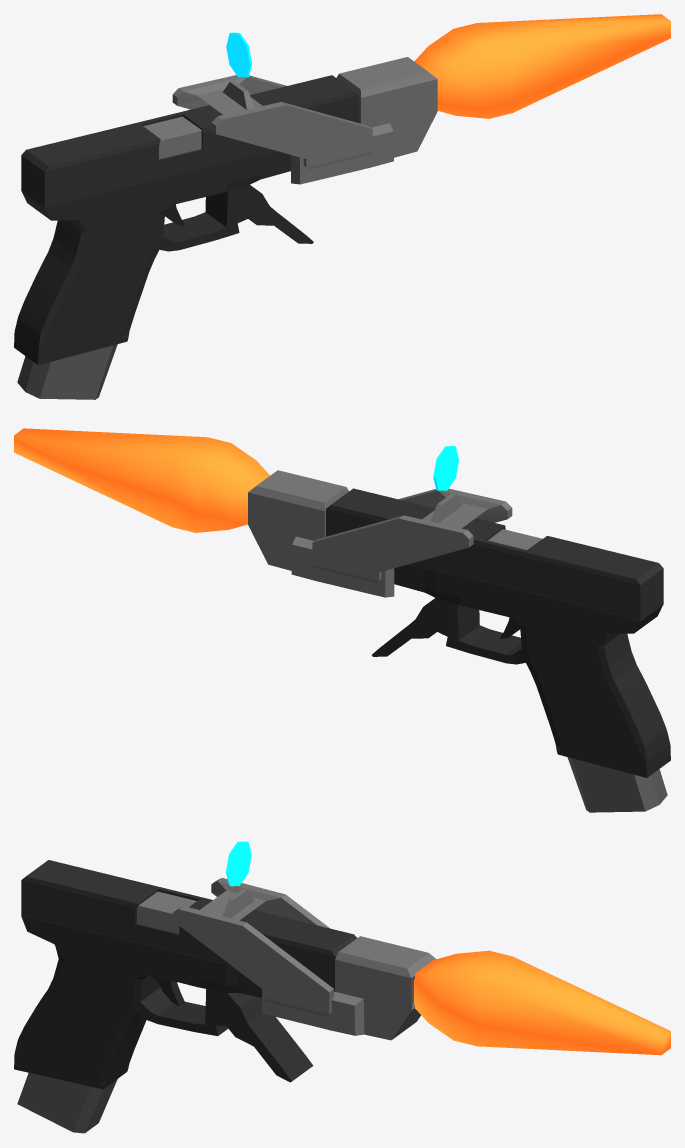
The model's file is BackupPistol.glb.
The picture shows the model from 3 angles, top to bottom: view 1: azimuth 30°, elevation 25°; view 2: azimuth 150°, elevation 25°; view 3: azimuth 330°, elevation 25°; orthographic projection.
Parts seen in each view (by area): view 1: Grip, MuzzleFlash, Slide, Attachment, Compensator, Magazine, Inside, Sight; view 2: Grip, MuzzleFlash, Slide, Attachment, Compensator, Magazine, Sight, Inside; view 3: Grip, MuzzleFlash, Slide, Attachment, Compensator, Magazine, Inside, Sight, Sight Bottom, Trigger.
Part boxes in pixels (x1=…): Grip: x1=14, y1=151, x2=313, y2=364; MuzzleFlash: x1=414, y1=14, x2=670, y2=118; Slide: x1=21, y1=75, x2=359, y2=208; Attachment: x1=172, y1=75, x2=372, y2=169; Compensator: x1=291, y1=57, x2=437, y2=184; Magazine: x1=17, y1=344, x2=117, y2=399; Inside: x1=143, y1=116, x2=201, y2=159; Sight: x1=226, y1=32, x2=251, y2=77; Grip: x1=372, y1=564, x2=670, y2=777; MuzzleFlash: x1=14, y1=428, x2=269, y2=532; Slide: x1=326, y1=488, x2=663, y2=621; Attachment: x1=312, y1=488, x2=512, y2=583; Compensator: x1=248, y1=470, x2=394, y2=597; Magazine: x1=567, y1=757, x2=667, y2=812; Sight: x1=433, y1=446, x2=458, y2=490; Inside: x1=488, y1=529, x2=542, y2=549; Grip: x1=14, y1=916, x2=313, y2=1089; MuzzleFlash: x1=414, y1=950, x2=670, y2=1055; Slide: x1=21, y1=860, x2=356, y2=991; Attachment: x1=172, y1=878, x2=333, y2=1016; Compensator: x1=262, y1=936, x2=436, y2=1040; Magazine: x1=17, y1=1073, x2=117, y2=1133; Inside: x1=137, y1=891, x2=196, y2=933; Sight: x1=226, y1=841, x2=251, y2=886; Sight Bottom: x1=222, y1=889, x2=254, y2=918; Trigger: x1=151, y1=975, x2=184, y2=1006.
Size of the model in its own units: 5.63 by 2.71 by 0.6569.
